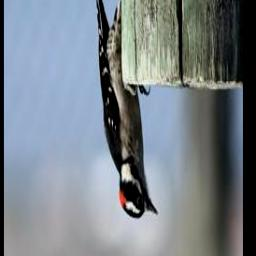Woodpecker: (95, 0, 159, 221)
